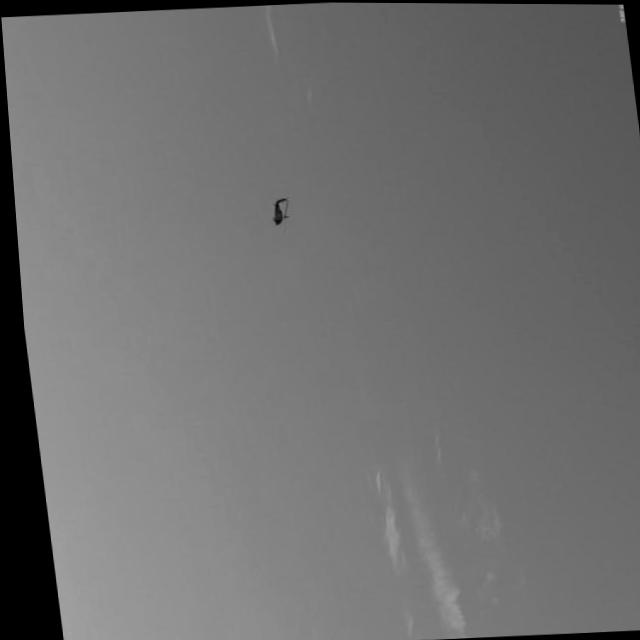helikopter: (239, 178, 338, 255)
